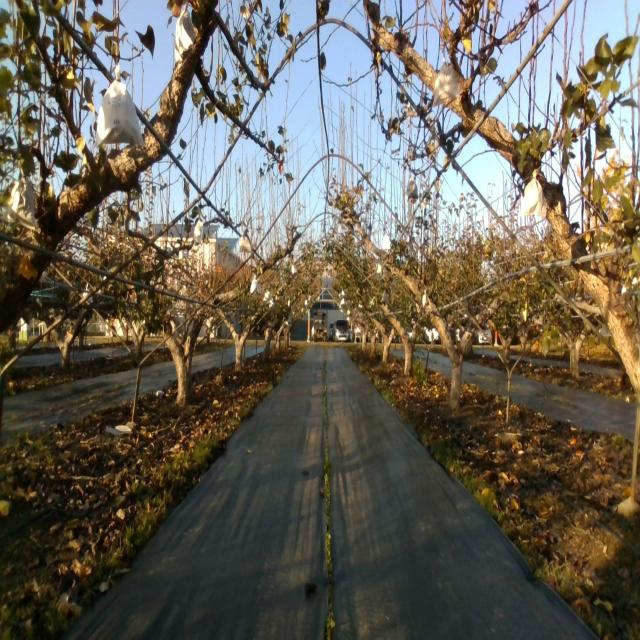pearbags: (92, 64, 144, 148), (3, 178, 36, 230), (432, 57, 462, 109), (522, 167, 547, 219), (174, 6, 195, 63), (406, 175, 418, 200), (238, 234, 252, 253)
